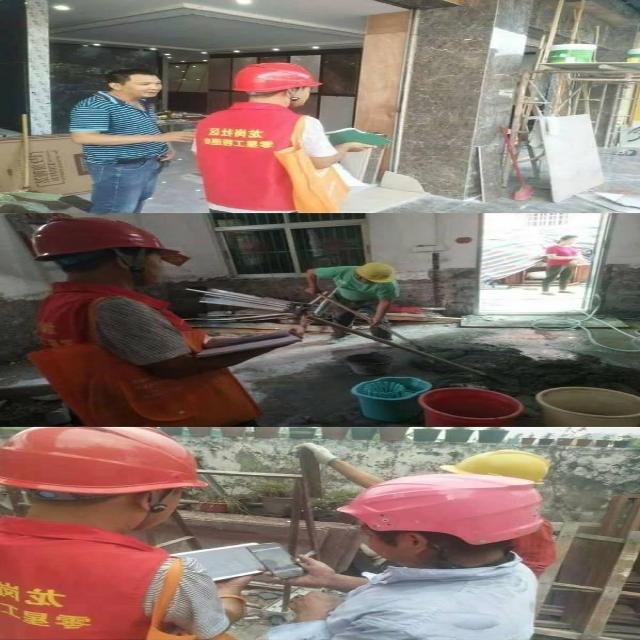Reflective-Jacket: (27, 288, 254, 424), (1, 518, 210, 640), (186, 104, 316, 212)
Safety-Helmet: (334, 470, 559, 544), (1, 427, 212, 495), (25, 216, 186, 260), (434, 448, 554, 484), (227, 60, 323, 93), (354, 260, 401, 283)
